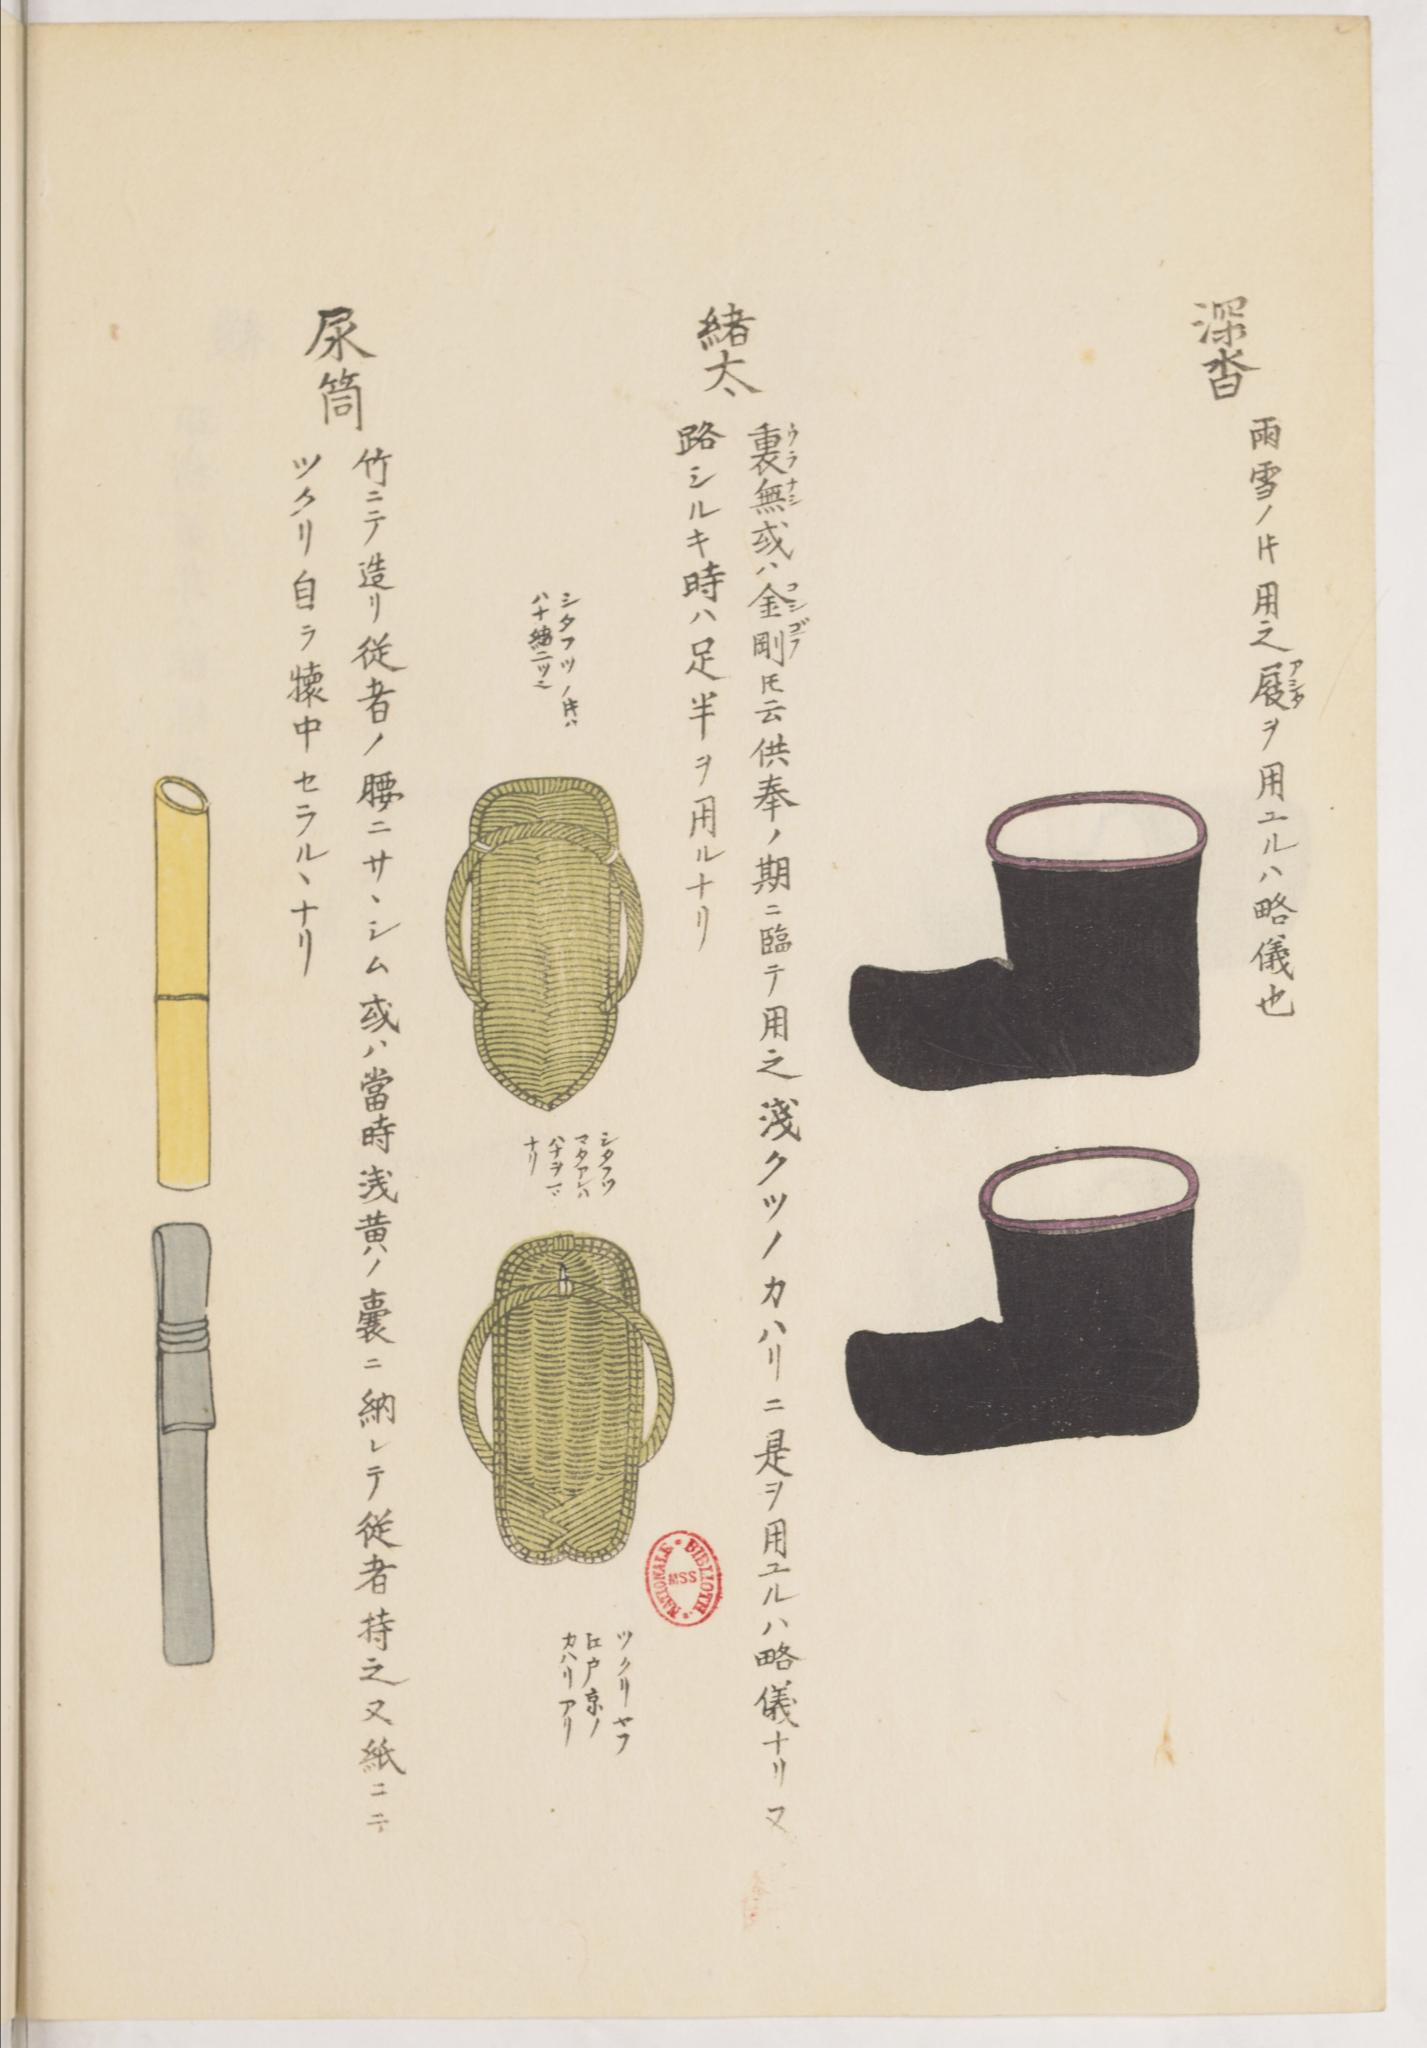MainZone-Character: (1250, 655, 1309, 711), (749, 422, 805, 476), (749, 621, 811, 669), (749, 574, 812, 618), (749, 479, 805, 517)
MainZone-Ruby: (1289, 654, 1310, 714), (787, 619, 812, 663), (786, 579, 809, 615), (784, 422, 801, 467), (784, 476, 803, 512)
